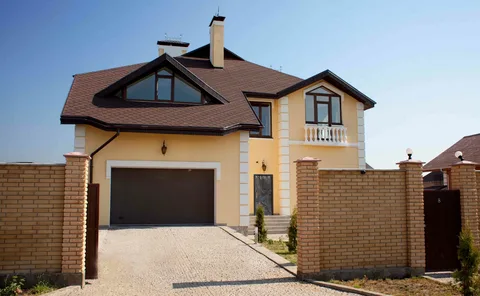private_hause: (68, 42, 372, 222)
